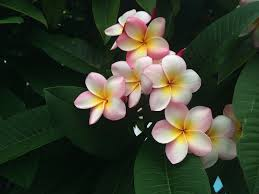frangipani: (151, 107, 211, 163)
